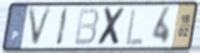4: (150, 5, 172, 48)
B: (72, 7, 100, 47)
I: (55, 6, 70, 48)
L: (124, 6, 145, 47)
V: (26, 5, 55, 50)
X: (96, 6, 128, 47)
